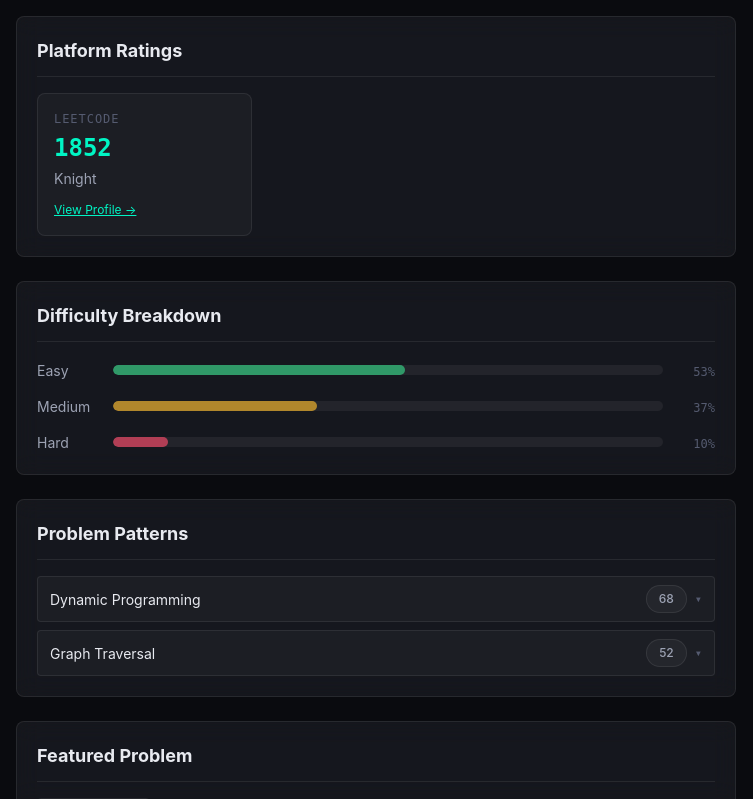
Test: ArenaZone › shows difficulty count tooltip on hover after 200ms
The image size is (753, 799).
Hover over the element with test id "bar-Easy".
mouse_move(376, 370)  # box top-left (37, 358), bottom-right (715, 382)
Wait 200 ms
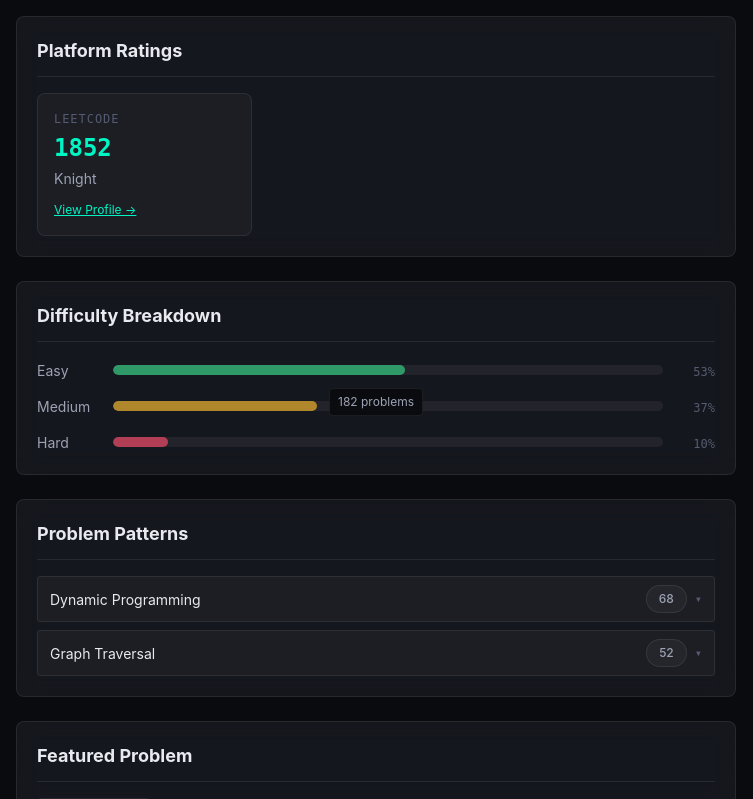
Expected: the element with test id "tooltip-Easy" is not shown
Expected: the text "182 problems" is shown, top-left (329, 388), bottom-right (423, 416)
Expected: the text with test id "tooltip-Easy" shows "182", top-left (338, 394), bottom-right (358, 409)
Move the pointer off the element with test id "bar-Easy", box top-left (37, 358), bottom-right (715, 382)
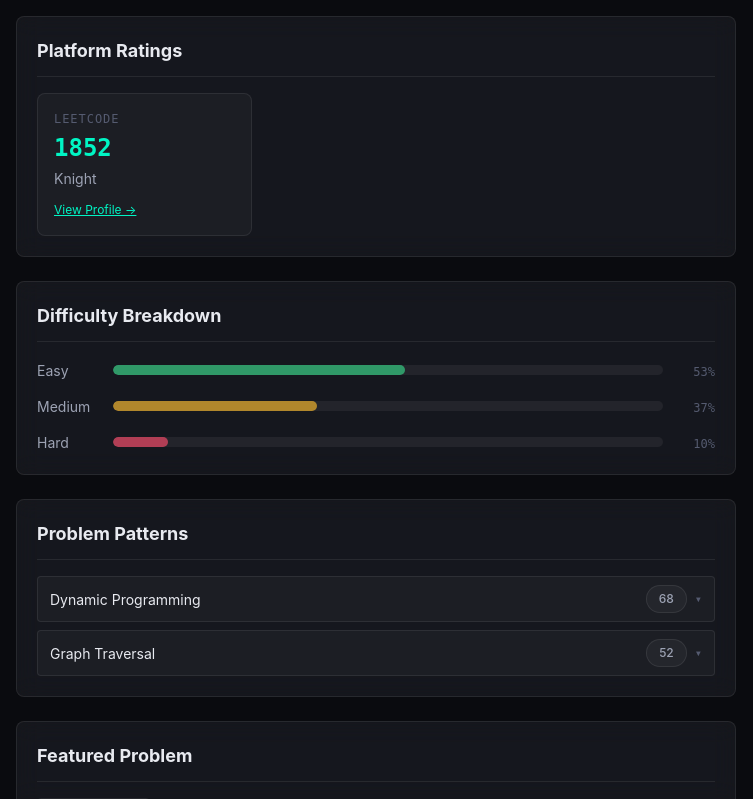
Expected: the text with test id "tooltip-Easy" is gone
